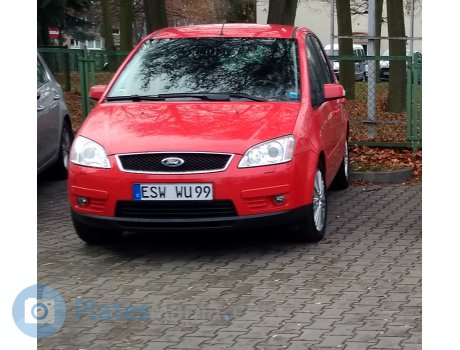License Plates: (136, 183, 214, 197)
